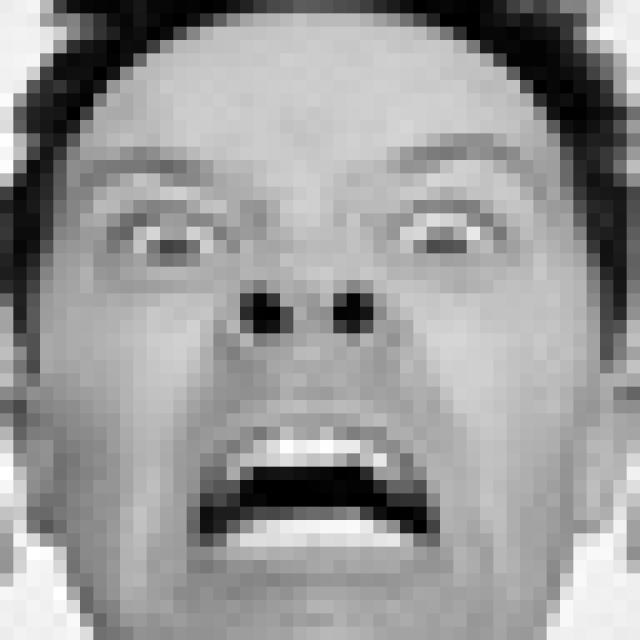angry: (82, 116, 525, 583)
